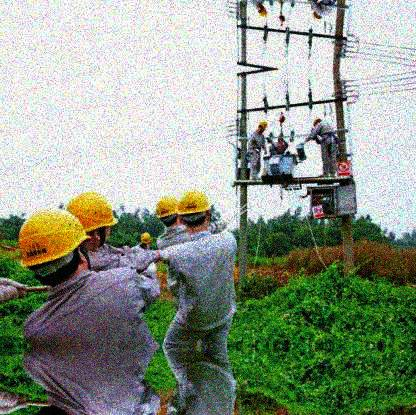helmet: (17, 207, 91, 281), (65, 190, 119, 246), (175, 188, 211, 233), (156, 195, 181, 227), (255, 3, 268, 17), (311, 10, 323, 24), (140, 232, 151, 247), (257, 119, 268, 133), (312, 115, 323, 128)
